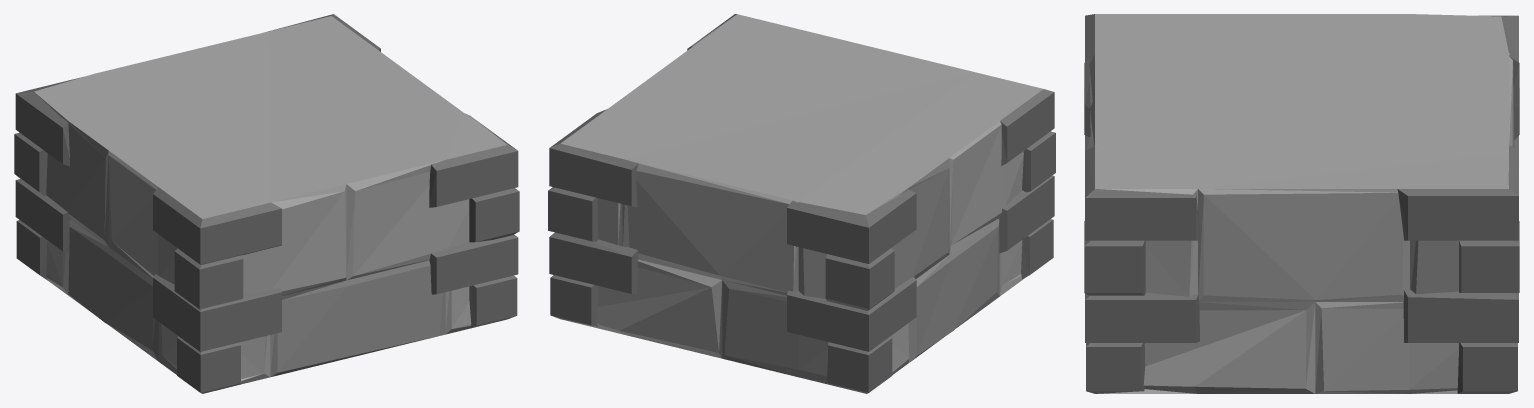
The model's file is _TOWER_5_BLOCK_01.fbx.
The picture shows the model from 3 angles, left to right: view 1: azimuth 30°, elevation 25°; view 2: azimuth 150°, elevation 25°; view 3: azimuth 270°, elevation 25°; orthographic projection. The views are drawn at different scales.
Parts seen in each view (by area): view 1: TOWER_5_BLOCK_01; view 2: TOWER_5_BLOCK_01; view 3: TOWER_5_BLOCK_01.
Part boxes in pixels (bbox=[...]): TOWER_5_BLOCK_01: bbox=[14, 14, 519, 393]; TOWER_5_BLOCK_01: bbox=[548, 14, 1055, 393]; TOWER_5_BLOCK_01: bbox=[1084, 14, 1519, 393].
Bounding box in the file's own units: 267 × 139 × 268.
